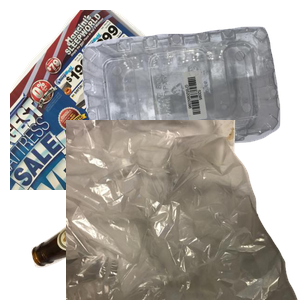glass: (29, 150, 238, 300)
paper: (10, 10, 240, 190)
plastic: (80, 24, 300, 172)
trash: (66, 120, 300, 300)
